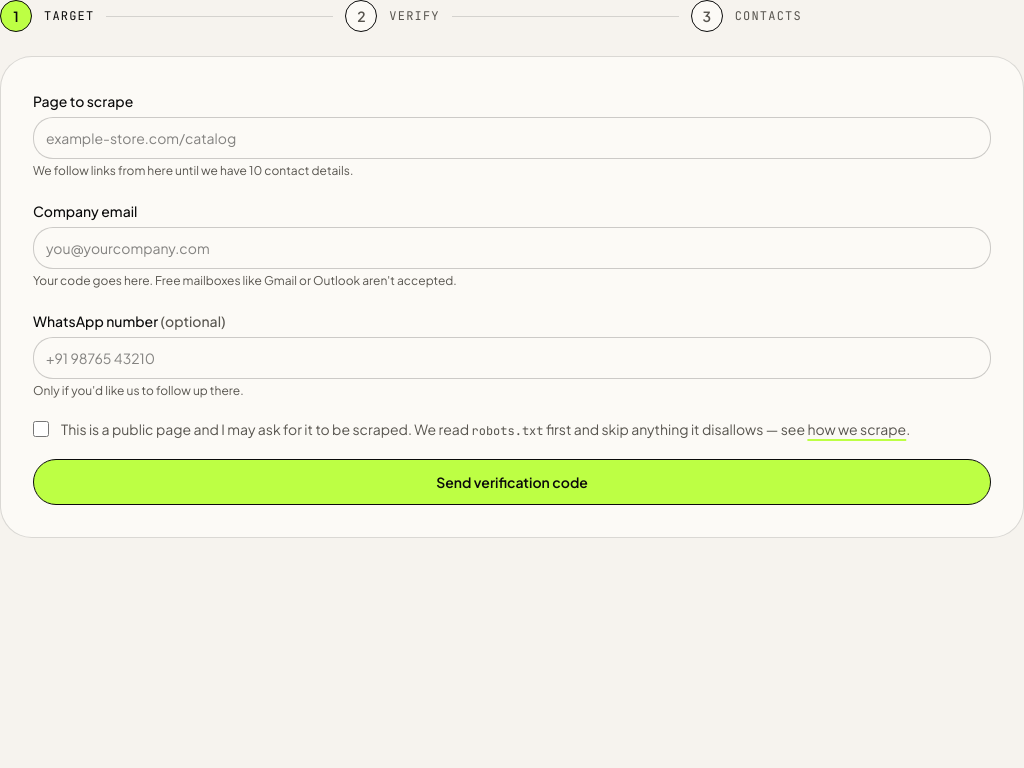
Test case: Live demo › moves to the code step once the server accepts the address
Type "example-store.com" into the field labelled "Page to scrape" at (512, 138), box [33,117,991,159]
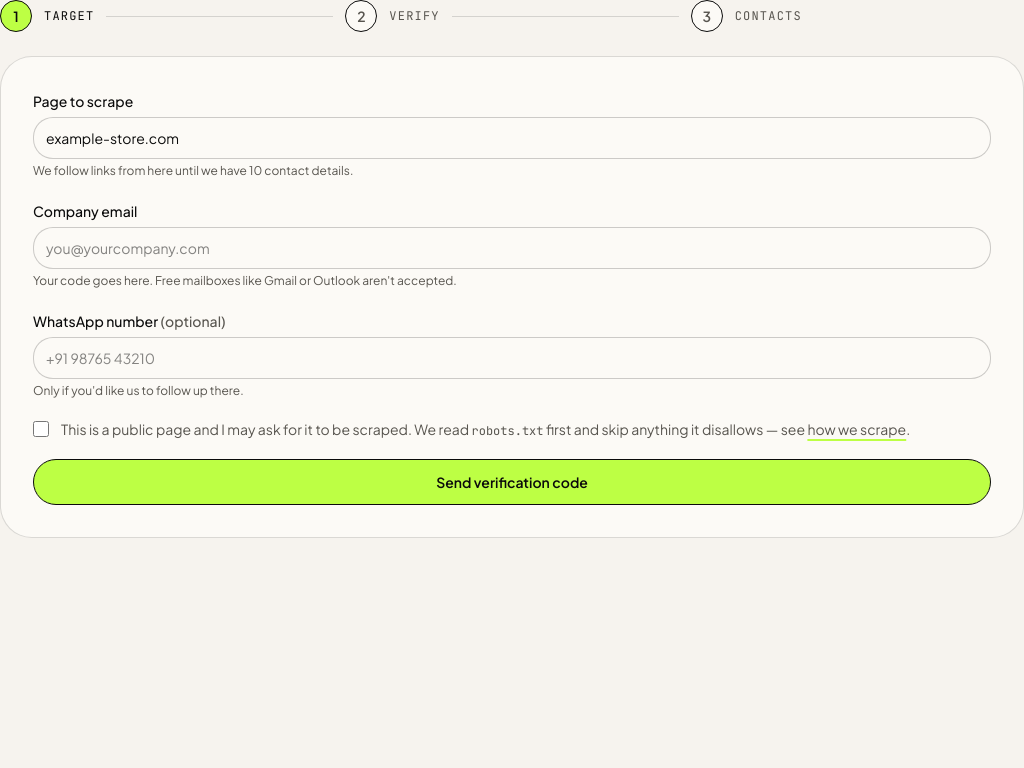
Type "buyer@northwind-logistics.com" into the field labelled "Company email" at (512, 248), box [33,227,991,269]
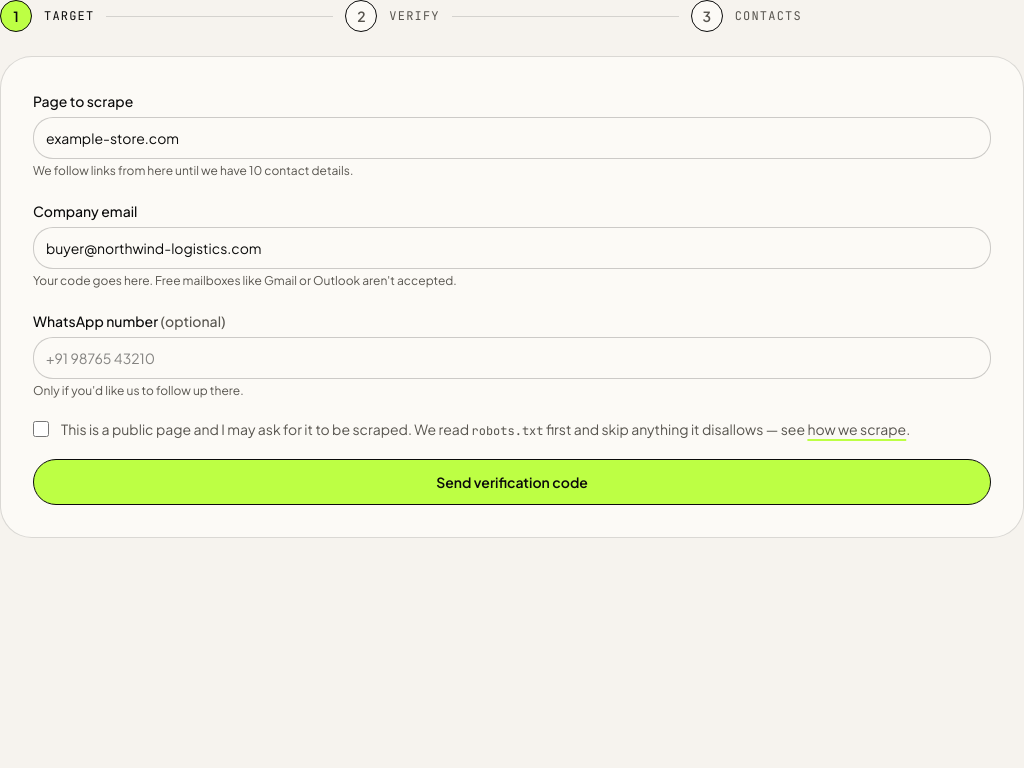
Click the checkbox at (41, 429), box [33,421,49,437]
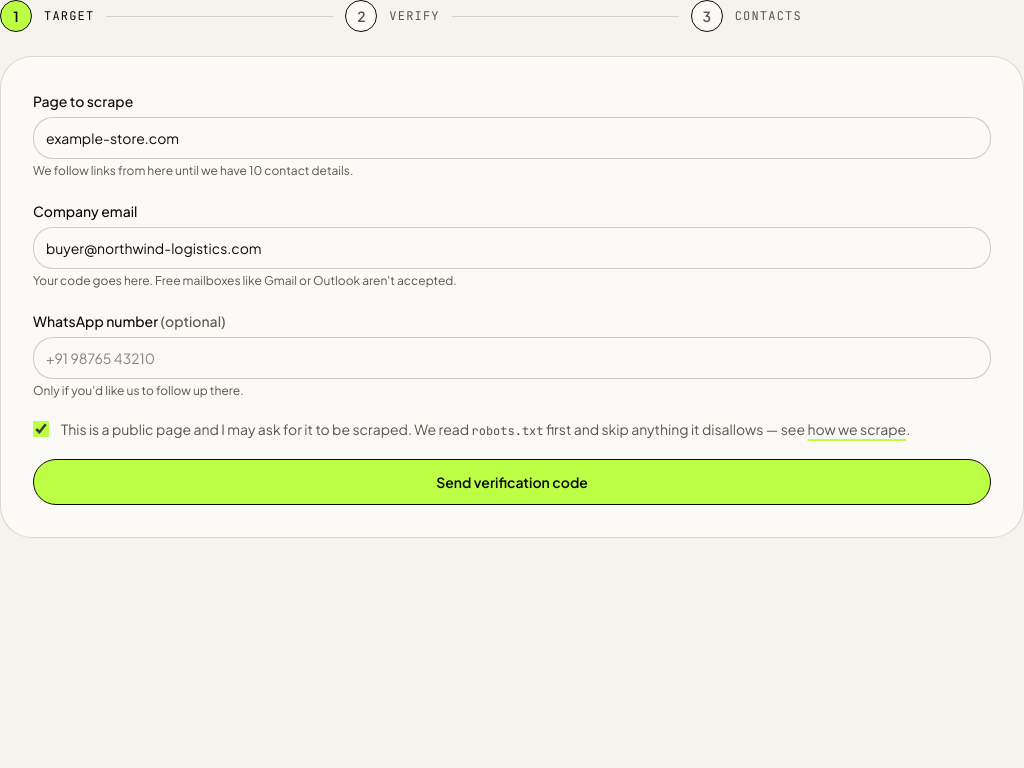
Click the button "Send verification code" at (512, 482), box [33,459,991,505]
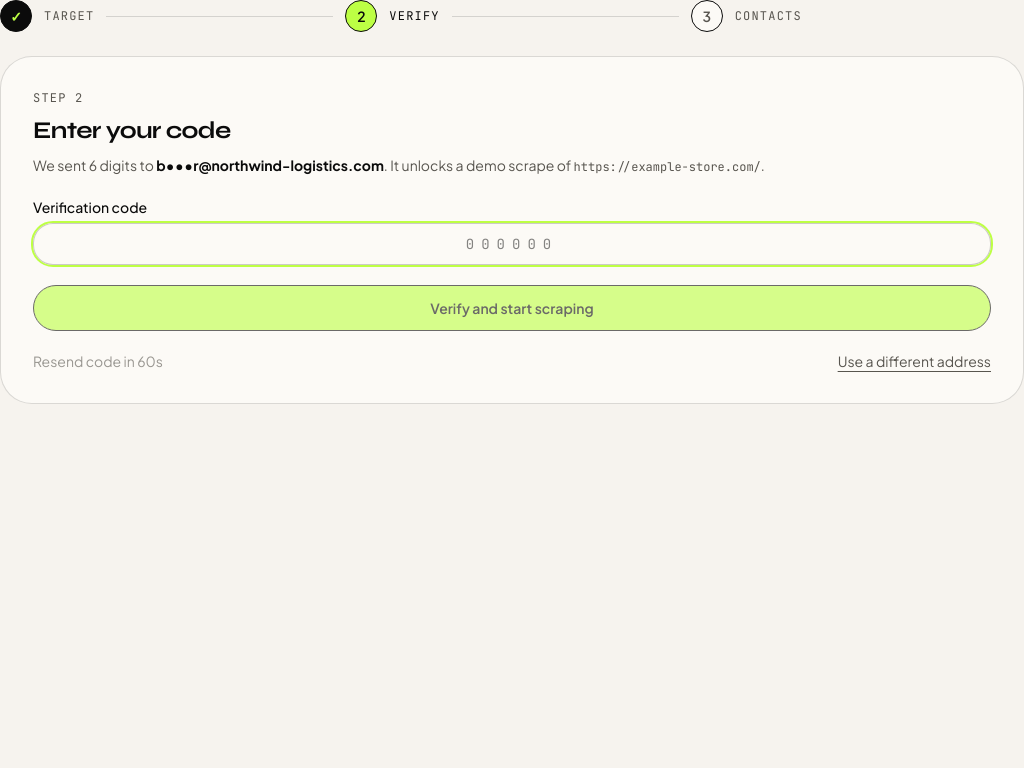
Check: the heading "Enter your code" is shown, box [33,116,230,145]
Check: the text "b•••r@northwind-logistics.com" is shown, box [156,156,384,174]
Check: the button "Verify and start scraping" is disabled, box [33,285,991,331]
